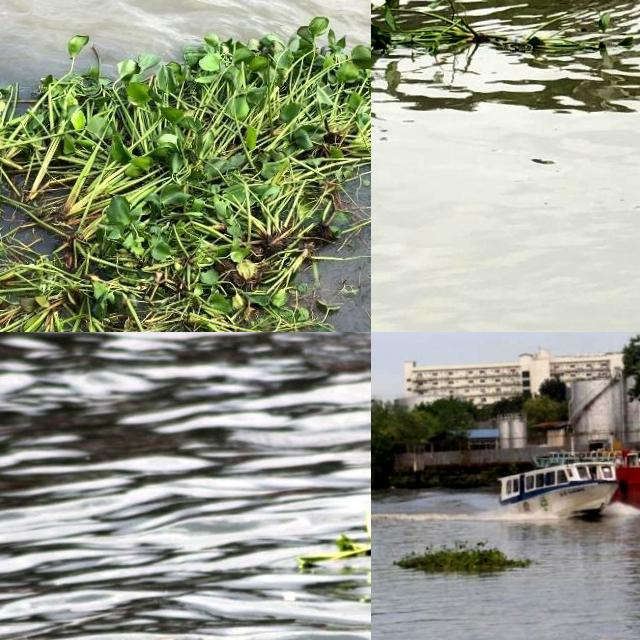water-hyacinth: (1, 15, 371, 333), (372, 1, 640, 76), (388, 538, 537, 581), (299, 496, 372, 572)
